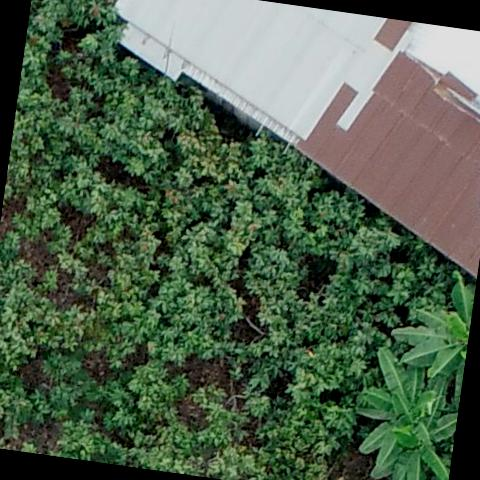Banana-plant: (344, 342, 466, 480), (379, 259, 478, 412), (364, 400, 458, 480)
